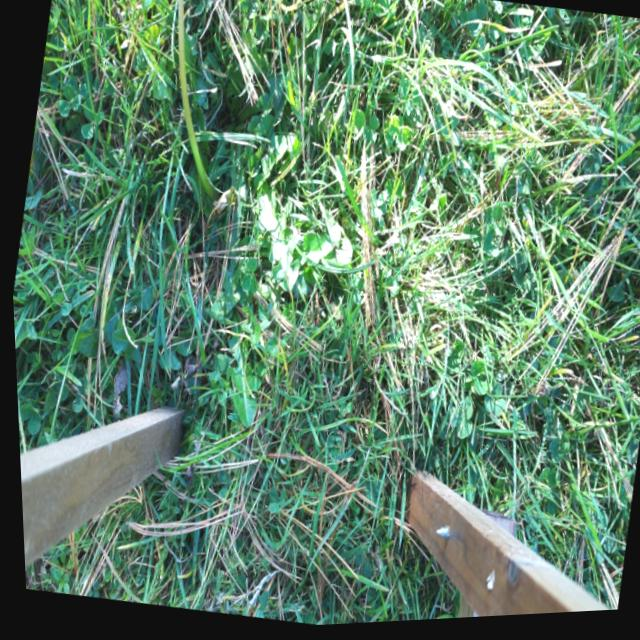base: (194, 175, 229, 226)
